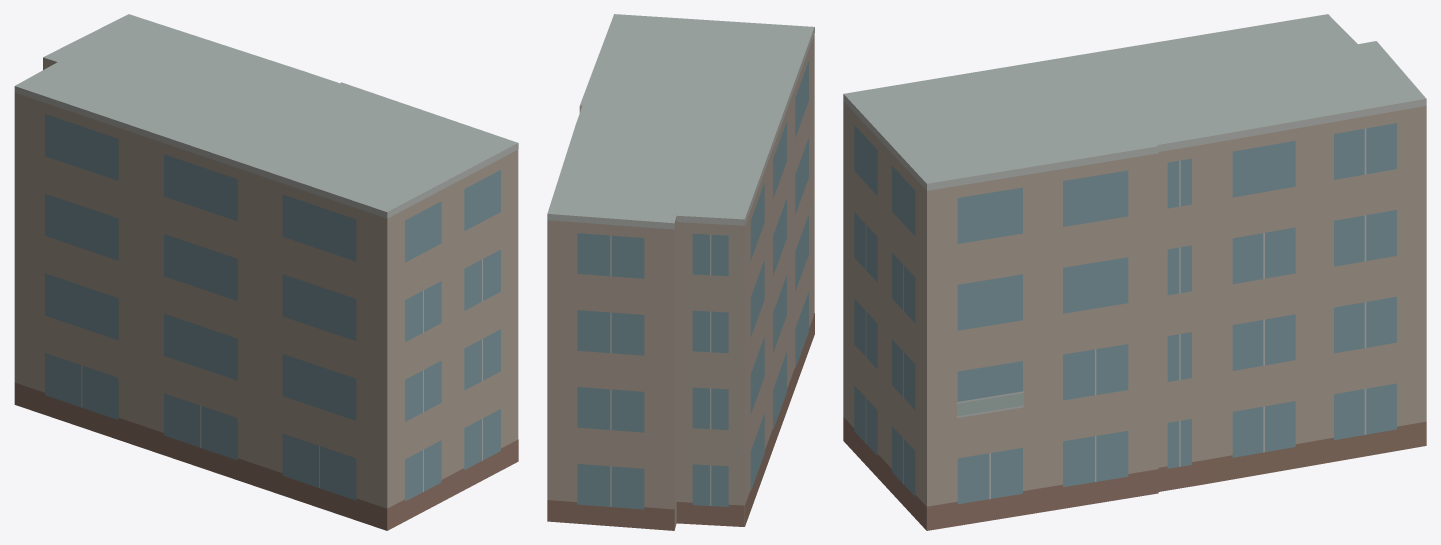
Rendered from survey-upis-32889166.glb.
3 views of the same model, side by side, from view 1: azimuth 30°, elevation 25°; view 2: azimuth 150°, elevation 25°; view 3: azimuth 270°, elevation 25° (orthographic). The views are drawn at different scales.
Visible parts, largest first — view 1: survey-upis-32889166.tmp; view 2: survey-upis-32889166.tmp; view 3: survey-upis-32889166.tmp.
Boxes of the visible parts, x1=… form: survey-upis-32889166.tmp: x1=14, y1=14, x2=518, y2=530; survey-upis-32889166.tmp: x1=547, y1=14, x2=814, y2=530; survey-upis-32889166.tmp: x1=843, y1=14, x2=1426, y2=530.
Size of the model in its own units: 12.5 by 11.9 by 18.13.
